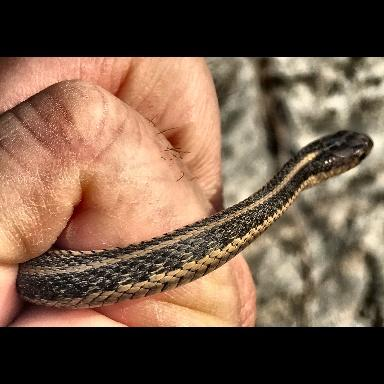snake: (18, 131, 373, 310)
